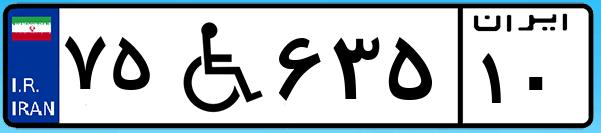0: (525, 38, 570, 115)
1: (475, 38, 525, 113)
3: (330, 28, 385, 110)
5: (385, 28, 445, 110), (110, 28, 158, 98)
6: (270, 28, 330, 110)
7: (57, 26, 110, 100)
ژ (معلولین و جانبازان): (158, 12, 270, 120)
